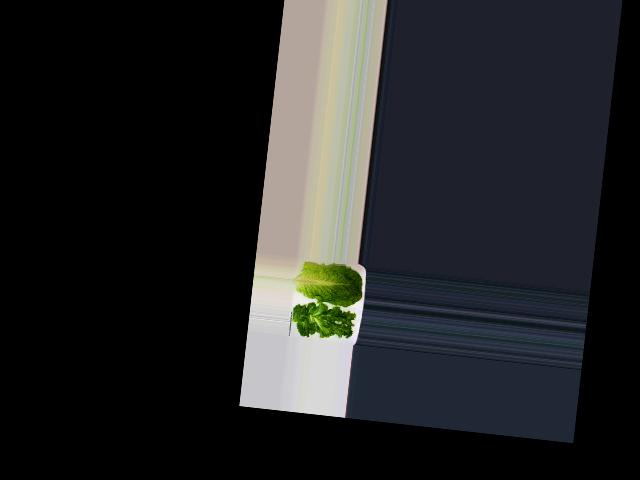lettuce: (292, 302, 356, 345)
